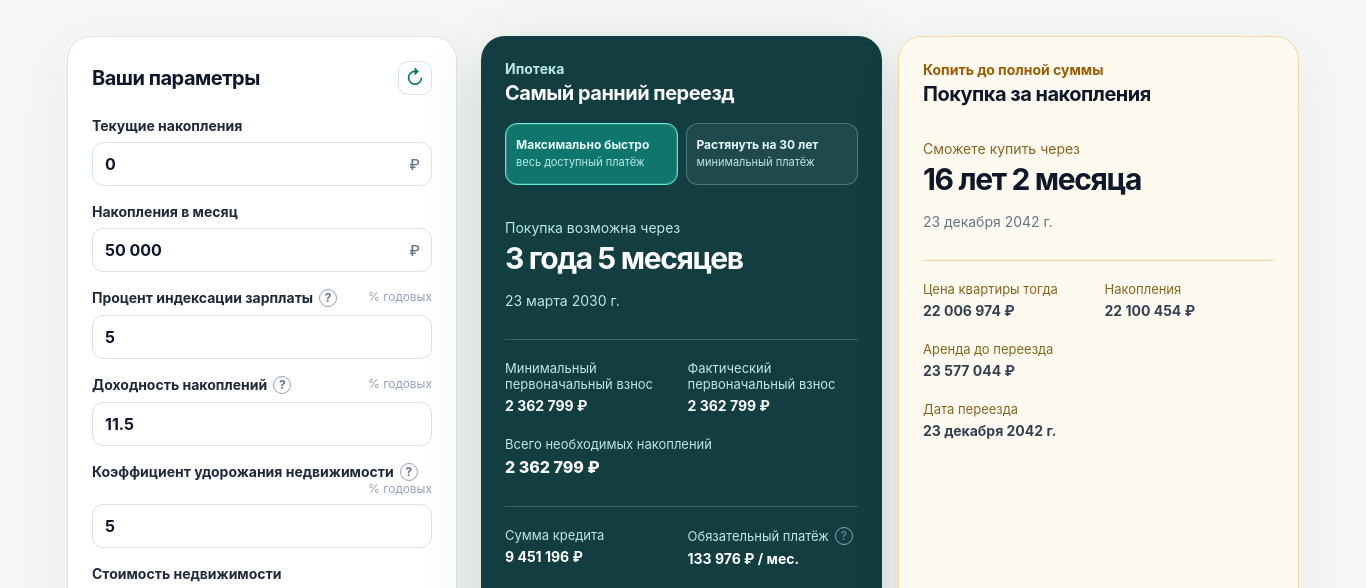
Test: App: public UI through mounted component › switches the repayment scenario between fast payoff and 30 years
Click the button "Растянуть на 30 лет минимальный платёж" at (772,154), box [686,123,858,185]
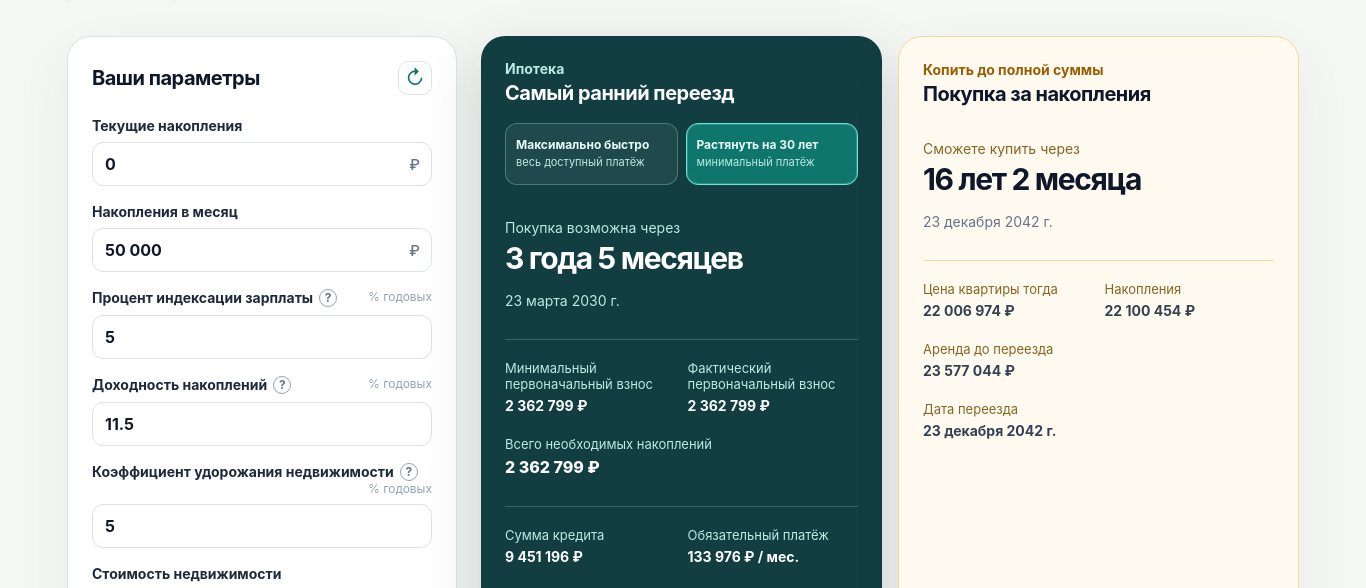
Expected: the button "Растянуть на 30 лет минимальный платёж" has class "active", [686,123,858,185]
Click the button "Максимально быстро весь доступный платёж" at (591,154), box [505,123,678,185]
(page scrolled)
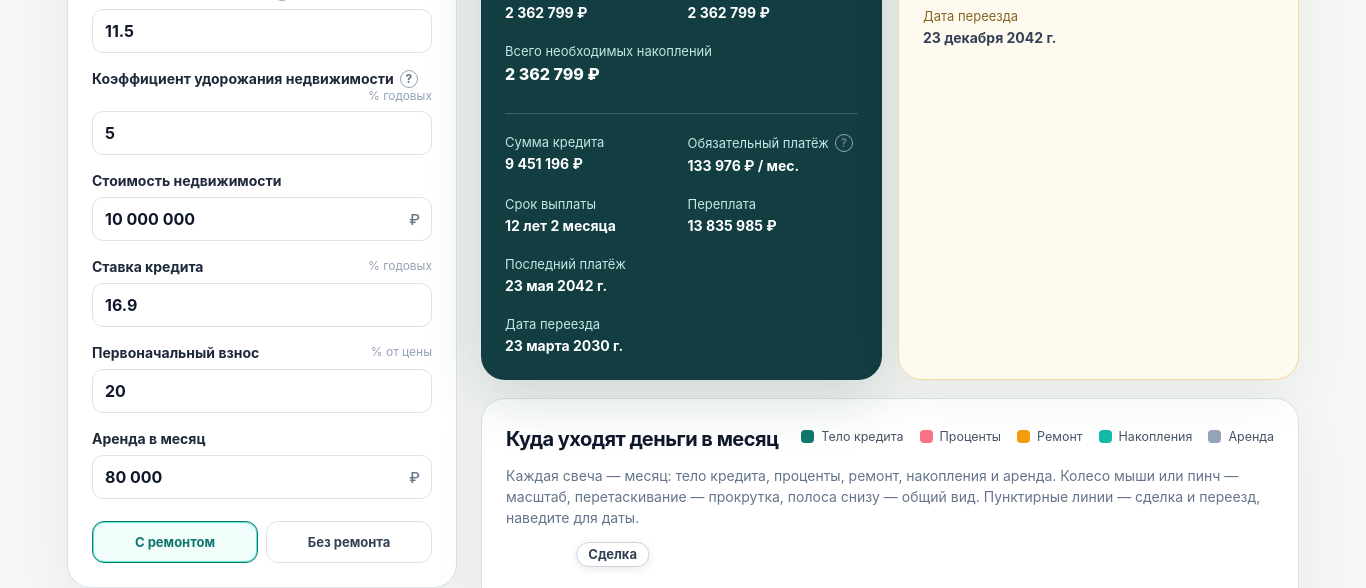
Expected: the text "12 лет 2 месяца" is shown, [505,217,616,234]
